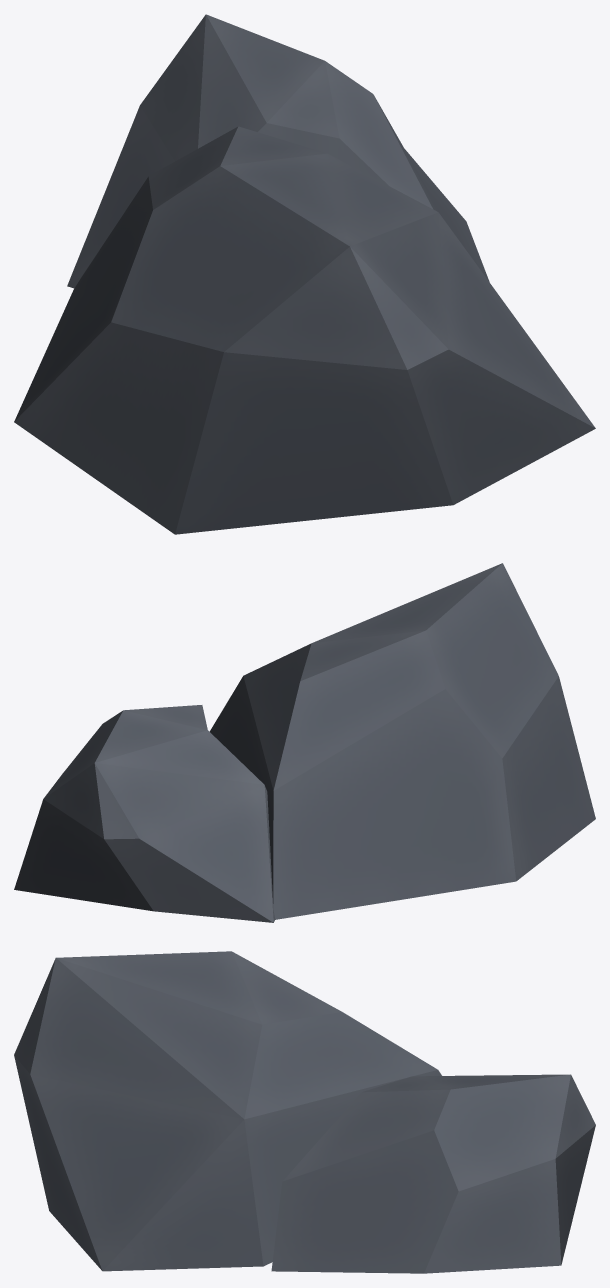
Rendered from Rock3.fbx.
3 renders of one model, top to bottom at view 1: azimuth 30°, elevation 25°; view 2: azimuth 150°, elevation 25°; view 3: azimuth 270°, elevation 25°, orthographic. The views are drawn at different scales.
Visible parts, largest first — view 1: Rock3; view 2: Rock3; view 3: Rock3.
Part boxes in pixels (x1=…): Rock3: x1=14, y1=14, x2=595, y2=534; Rock3: x1=14, y1=563, x2=595, y2=922; Rock3: x1=14, y1=951, x2=595, y2=1273.
Bounding box in the file's own units: 1.87 × 0.9418 × 2.29.
Materials: 1 (1 with a texture image).
